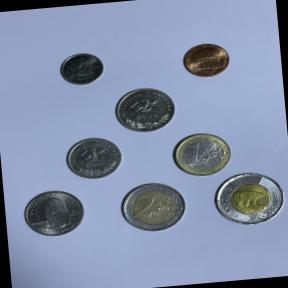coin: (115, 176, 192, 236), (210, 170, 288, 229), (19, 186, 90, 240), (111, 83, 180, 136), (170, 128, 234, 180), (179, 40, 236, 82), (57, 50, 107, 90)
